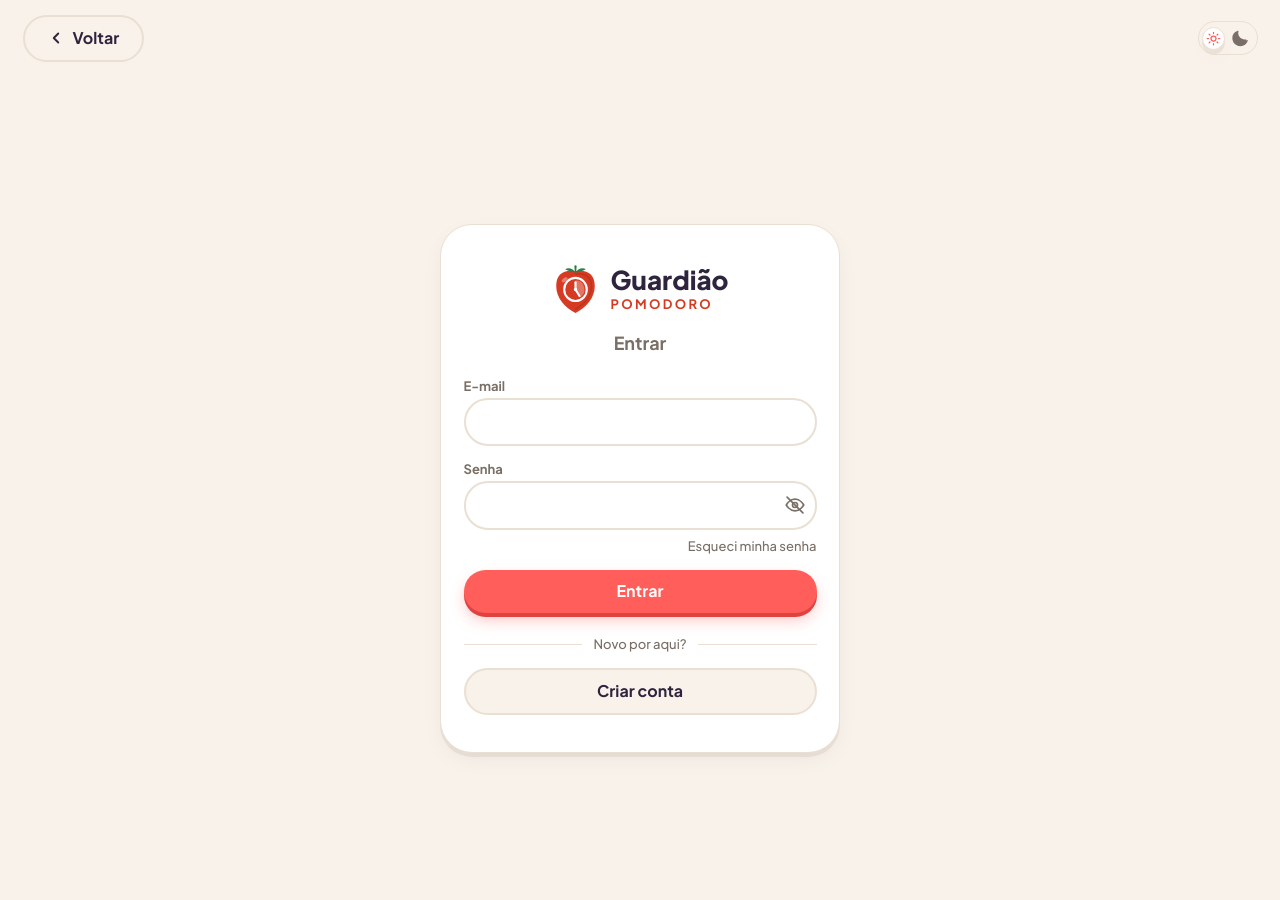
it: LoginPage › mostra mensagem genérica de erro quando o login falha
Type "joao@email.com" into the field labelled "E-mail" at (640, 422), box [464, 398, 816, 446]
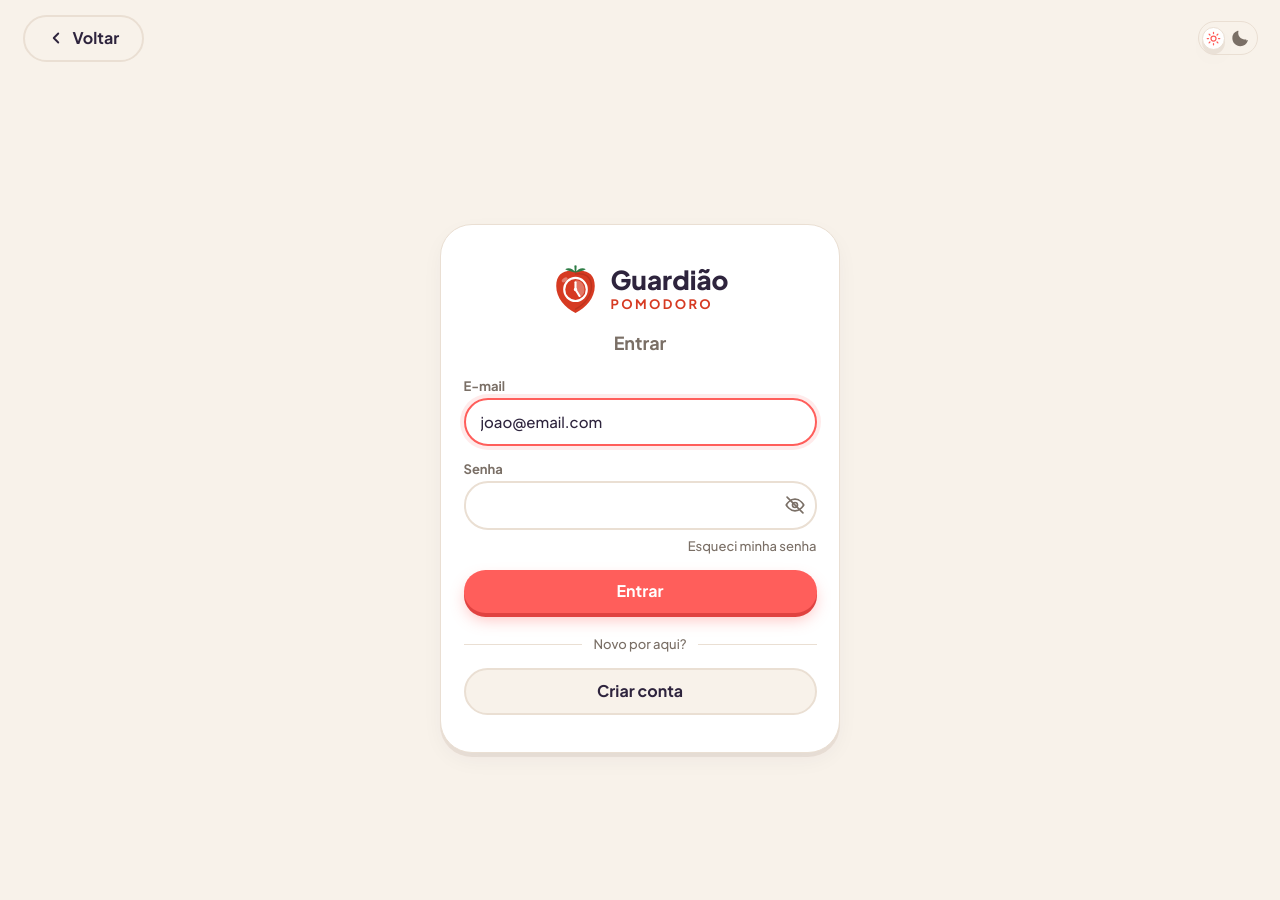
Type "correta" into the password field labelled "Senha" at (640, 505), box [464, 481, 816, 530]
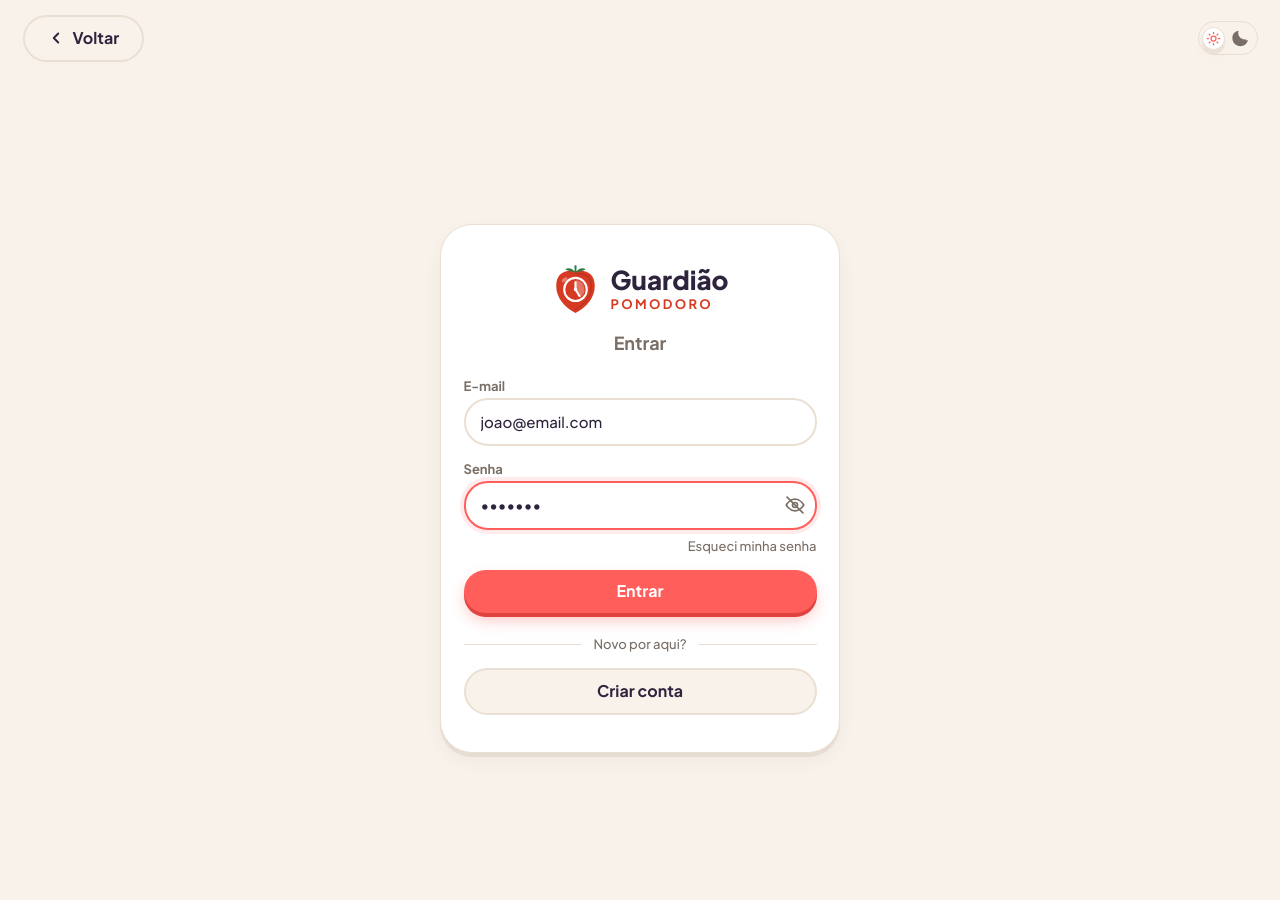
Click the button "Entrar" at (640, 591), box [464, 570, 816, 612]
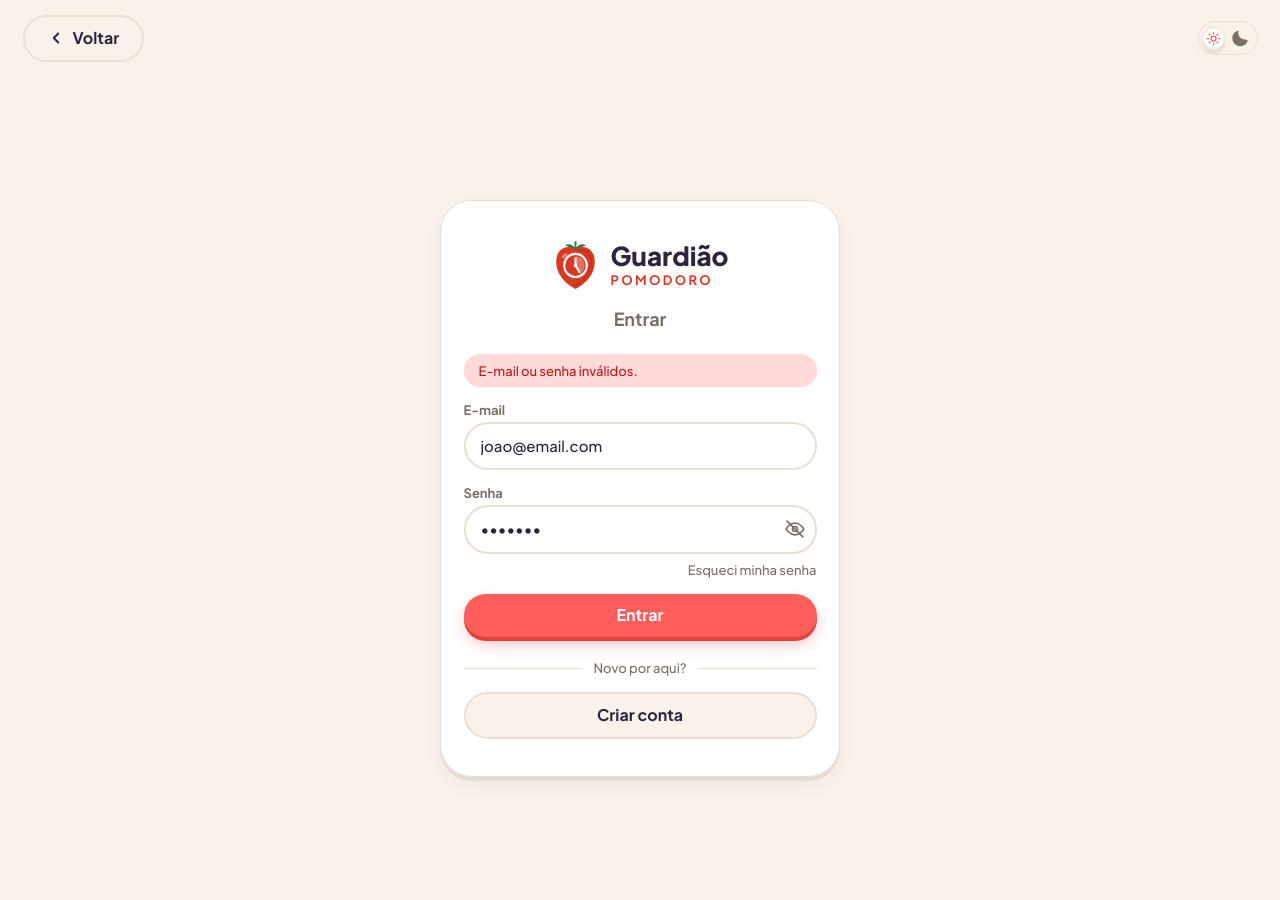
Now the text "E-mail ou senha inválidos." is shown, box [464, 354, 816, 387]
